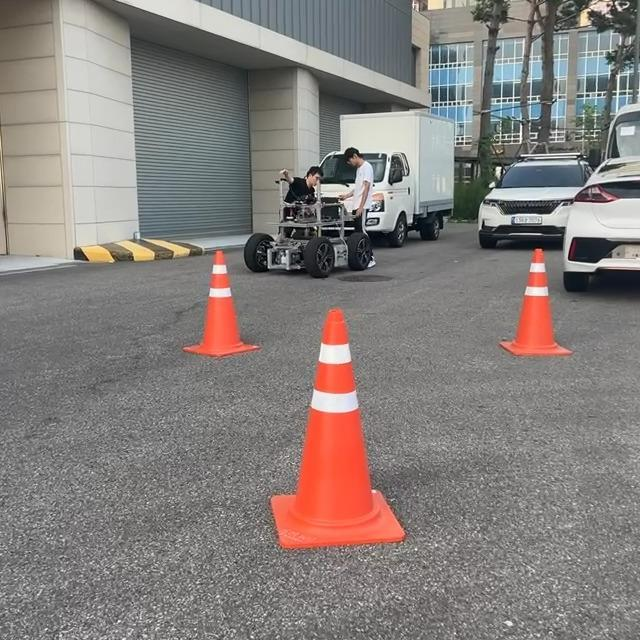fallen_object: (253, 287, 386, 539), (160, 218, 297, 381), (472, 219, 561, 376)
